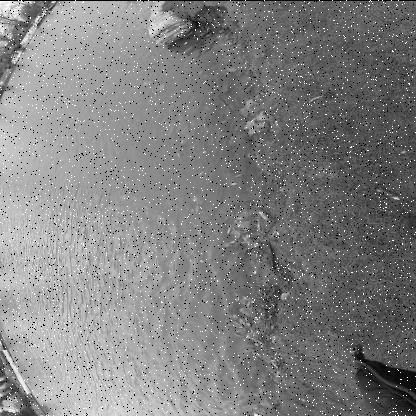glass: (252, 201, 274, 221)
